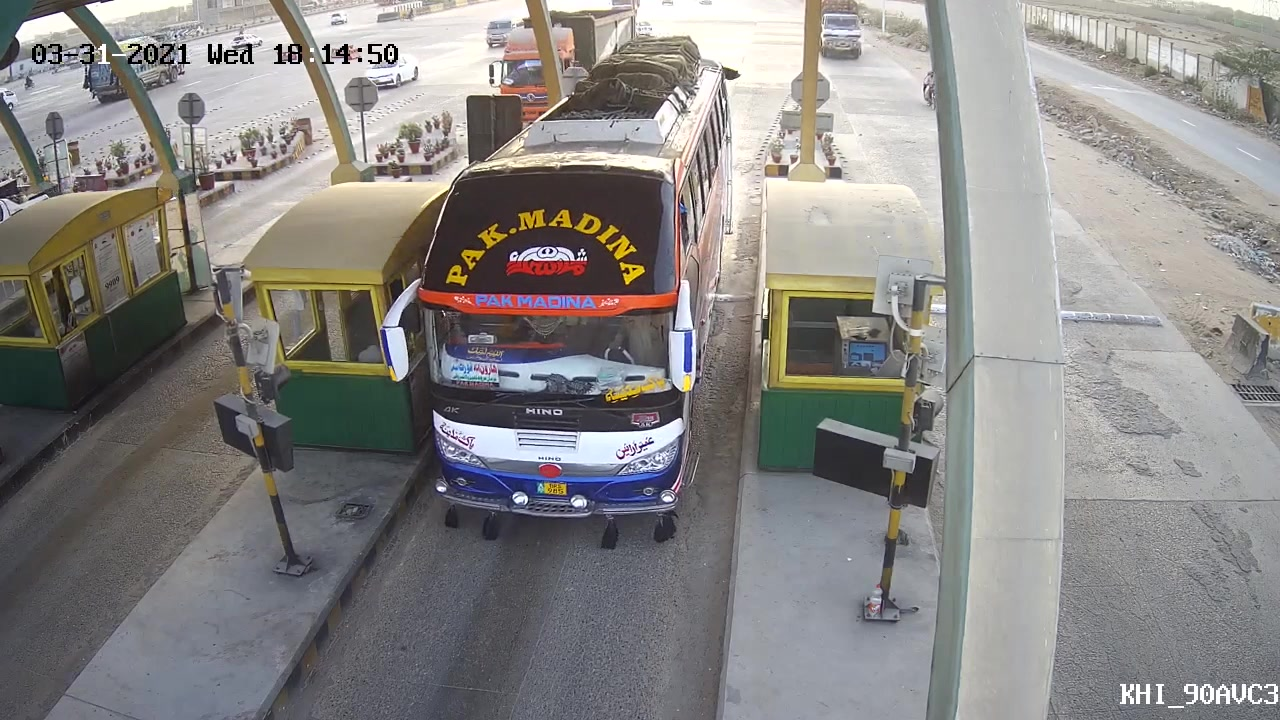F4: (405, 28, 739, 540)
